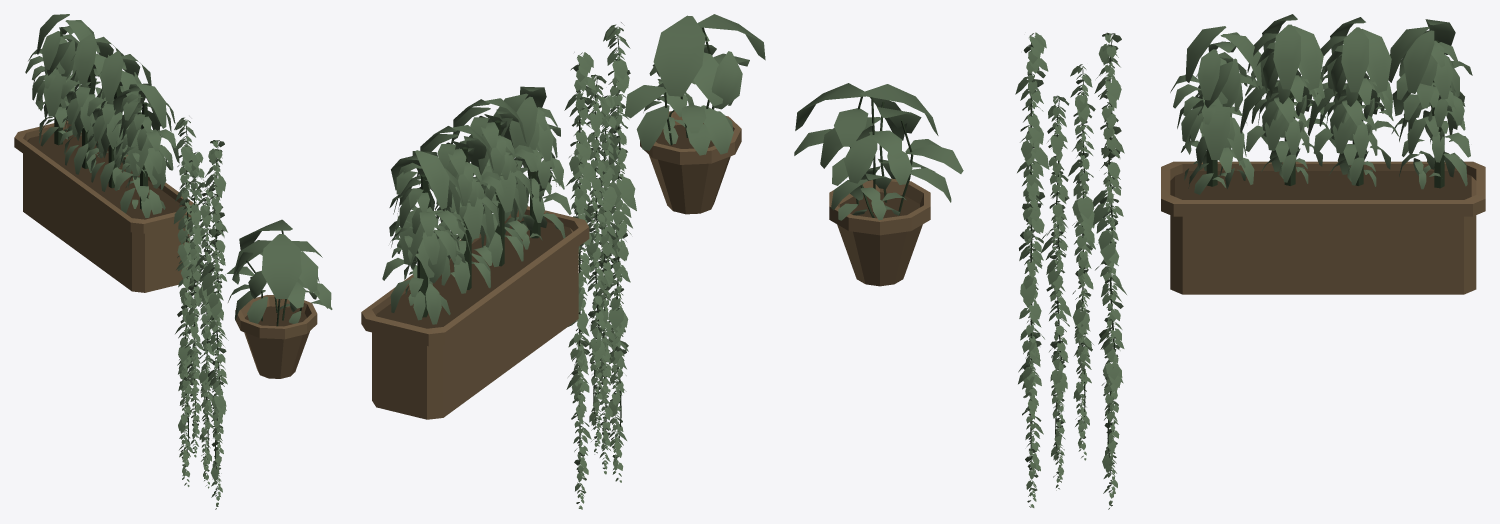
File: Various Plants.fbx
3 views of the same model, side by side, from view 1: azimuth 30°, elevation 25°; view 2: azimuth 150°, elevation 25°; view 3: azimuth 270°, elevation 25° (orthographic). The views are drawn at different scales.
Parts seen in each view (by area): view 1: S_Row_Plant, S_WallVines, S_Plant; view 2: S_Row_Plant, S_WallVines, S_Plant; view 3: S_Row_Plant, S_WallVines, S_Plant.
Boxes of the visible parts, <box> form: S_Row_Plant: <box>14,14,193,292</box>; S_WallVines: <box>173,115,228,509</box>; S_Plant: <box>225,219,332,378</box>; S_Row_Plant: <box>361,86,589,419</box>; S_WallVines: <box>564,22,636,509</box>; S_Plant: <box>624,14,765,214</box>; S_Row_Plant: <box>1161,14,1485,294</box>; S_WallVines: <box>1015,32,1126,509</box>; S_Plant: <box>794,83,963,286</box>.
Size of the model in its own units: 116 by 511 by 650.
